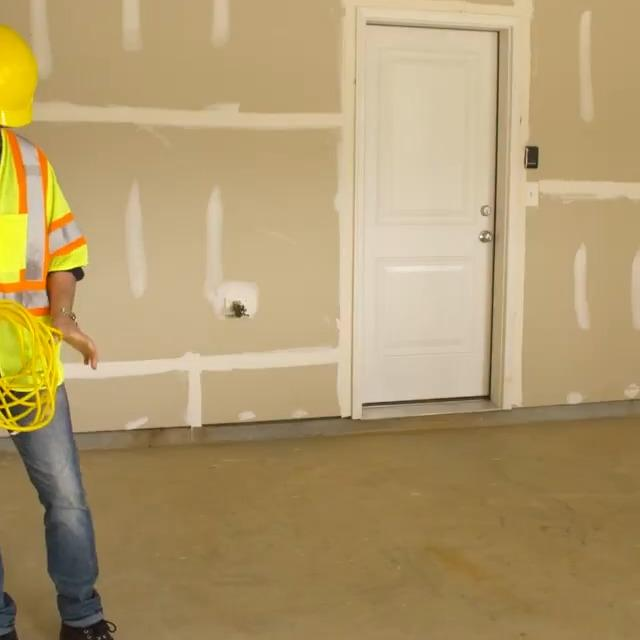Hardhat: (0, 24, 39, 126)
Person: (0, 25, 133, 640)
Safety Vest: (0, 130, 89, 327)
